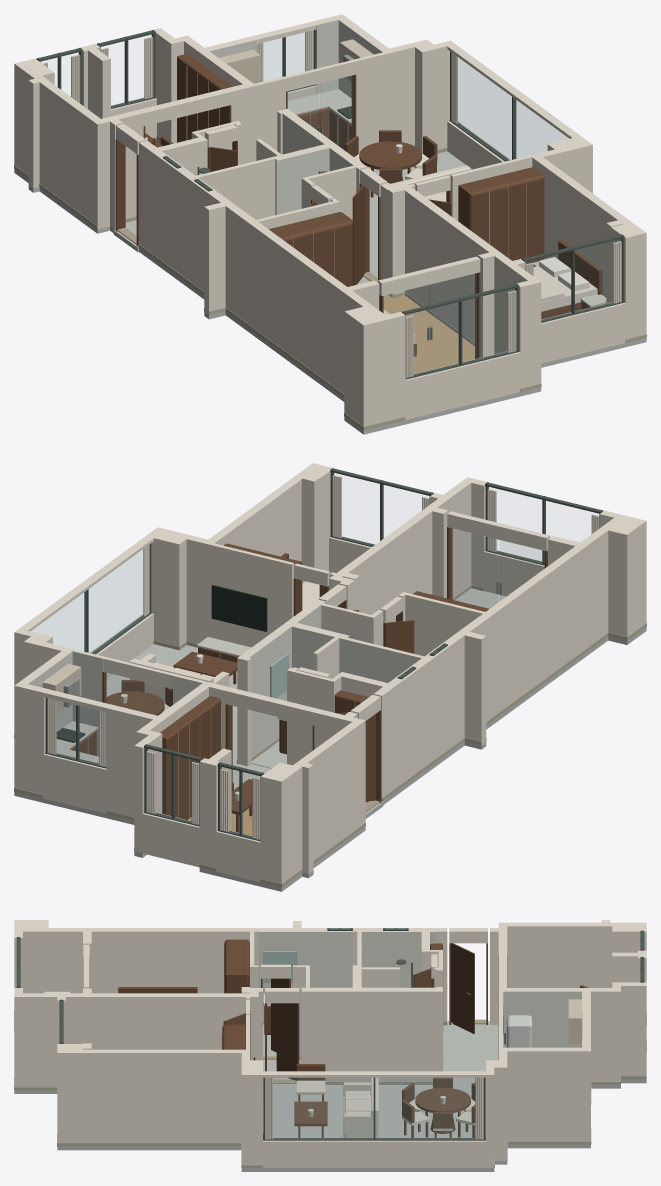
The model's file is apartment.glb.
3 views of the same model, one above another, from view 1: azimuth 30°, elevation 25°; view 2: azimuth 150°, elevation 25°; view 3: azimuth 270°, elevation 25° (orthographic). The views are drawn at different scales.
Parts seen in each view (by area): view 1: cad-wall-1-2.4-0-upper, cad-wall-1-2.4-0-lower, cad-wall-6-2.4-0-upper, cad-wall-3-2.4-0-upper, 墙体剖切上部, cad-wall-2-2.4-0-upper, cad-window-1, cad-wall-7-2.4-0-upper, 卧室B衣柜, 按材料表还原的饰面与细节, cad-window-4, cad-wall-4-2.4-0-upper (+26 smaller); view 2: cad-wall-1-2.4-0-upper, cad-wall-6-2.4-0-upper, cad-wall-1-2.4-0-lower, cad-wall-3-2.4-0-upper, 按材料表还原的饰面与细节, cad-wall-2-2.4-0-upper, 墙体剖切上部, 墙砖剖切上部, cad-window-1, cad-window-3, 阳台推拉门, cad-wall-4-2.4-0-upper (+28 smaller); view 3: cad-wall-1-2.4-0-upper, cad-window-1, cad-wall-3-2.4-0-upper, cad-wall-6-2.4-0-upper, cad-slab-1, 墙砖剖切上部, cad-wall-2-2.4-0-upper, cad-wall-6-2.4-0-lower, cad-wall-7-2.4-0-upper, cad-wall-1-2.4-0-lower, 墙体剖切上部, cad-wall-4-2.4-0-upper (+22 smaller).
Boxes of the visible parts, x1,y1,x2,y2 form: cad-wall-1-2.4-0-upper: [139, 109, 405, 388]; cad-wall-1-2.4-0-lower: [139, 206, 405, 426]; cad-wall-6-2.4-0-upper: [450, 136, 646, 301]; cad-wall-3-2.4-0-upper: [380, 181, 541, 350]; 墙体剖切上部: [116, 21, 580, 295]; cad-wall-2-2.4-0-upper: [14, 58, 143, 188]; cad-window-1: [447, 51, 568, 169]; cad-wall-7-2.4-0-upper: [313, 14, 455, 124]; 卧室B衣柜: [458, 167, 544, 264]; 按材料表还原的饰面与细节: [14, 30, 646, 430]; cad-window-4: [402, 283, 520, 419]; cad-wall-4-2.4-0-upper: [153, 28, 285, 152]; cad-wall-1-2.4-0-upper: [237, 510, 646, 759]; cad-wall-6-2.4-0-upper: [146, 463, 331, 625]; cad-wall-1-2.4-0-lower: [237, 585, 646, 801]; cad-wall-3-2.4-0-upper: [329, 477, 486, 614]; 按材料表还原的饰面与细节: [14, 475, 646, 887]; cad-wall-2-2.4-0-upper: [260, 709, 365, 845]; 墙体剖切上部: [19, 511, 550, 725]; 墙砖剖切上部: [28, 601, 480, 726]; cad-window-1: [31, 543, 153, 678]; cad-window-3: [44, 698, 106, 813]; 阳台推拉门: [447, 527, 547, 608]; cad-wall-4-2.4-0-upper: [107, 674, 230, 811]; cad-wall-1-2.4-0-upper: [14, 920, 447, 1047]; cad-window-1: [263, 1077, 485, 1167]; cad-wall-3-2.4-0-upper: [14, 988, 262, 1053]; cad-wall-6-2.4-0-upper: [57, 1015, 262, 1131]; cad-slab-1: [14, 1021, 646, 1171]; 墙砖剖切上部: [258, 931, 582, 1047]; cad-wall-2-2.4-0-upper: [490, 920, 646, 987]; cad-wall-6-2.4-0-lower: [57, 1109, 262, 1164]; cad-wall-7-2.4-0-upper: [486, 1035, 590, 1131]; cad-wall-1-2.4-0-lower: [23, 988, 447, 1081]; 墙体剖切上部: [83, 928, 590, 1077]; cad-wall-4-2.4-0-upper: [498, 980, 646, 1047].
Bounding box in the file's own units: 8.57 × 2.53 × 14.77.
